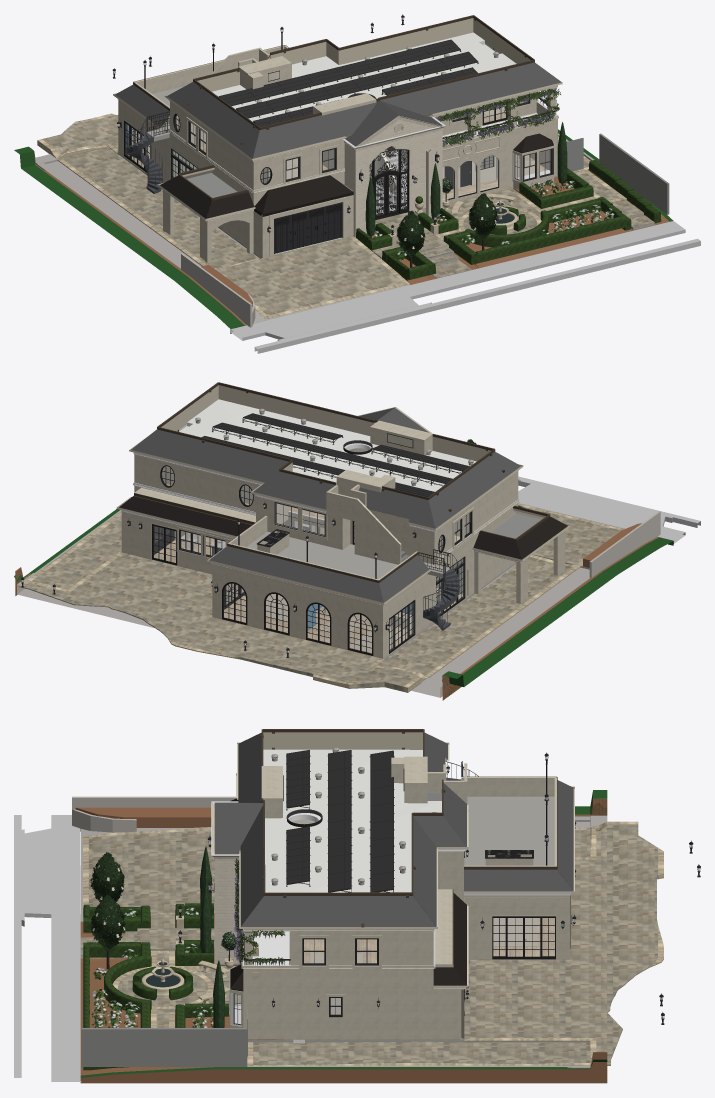
Rendered from exterior-house-9a754d239e27.glb.
3 views of the same model, one above another, from view 1: azimuth 30°, elevation 25°; view 2: azimuth 150°, elevation 25°; view 3: azimuth 270°, elevation 25° (orthographic). The views are drawn at different scales.
Parts seen in each view (by area): view 1: exterior-house-2097c6bf0b01330b, exterior-house-b5dfe7249a3eb059, exterior-house-e7e6fa835f441169, exterior-house-27d577fbd7f2ff4b, exterior-house-aee2d046b0172b1e, exterior-house-772a07b3069847f0, exterior-house-e33d7b378dc851e2, exterior-house-d56ee2a9d54b1fc2, exterior-house-8ae50a6395ceb8a4, exterior-house-0b9d5d1cd0b2c60f, exterior-house-7cf8e5cfa8b264af, exterior-house-25c3ff3929e46046 (+47 smaller); view 2: exterior-house-37d1b262fca80116, exterior-house-d56ee2a9d54b1fc2, exterior-house-27d577fbd7f2ff4b, exterior-house-8ae50a6395ceb8a4, exterior-house-969b861f9850351e, exterior-house-aee2d046b0172b1e, exterior-house-c91f911e25c8cae7, exterior-house-5febae1537653d02, exterior-house-b5dfe7249a3eb059, exterior-house-3763e2fb8578d282, exterior-house-2c1fd33d433632d0, exterior-house-0cae3eb2f2d52fad (+38 smaller); view 3: exterior-house-37d1b262fca80116, exterior-house-aee2d046b0172b1e, exterior-house-b5dfe7249a3eb059, exterior-house-d56ee2a9d54b1fc2, exterior-house-2097c6bf0b01330b, exterior-house-2c1fd33d433632d0, exterior-house-07f5bde4319b7ab4, exterior-house-e7e6fa835f441169, exterior-house-a75a0c9c223328ee, exterior-house-ded88bd99590d377, exterior-house-af97eba351c411ae, exterior-house-e706aa16b4547c37 (+54 smaller).
Part boxes in pixels (x1,y1,x2,y2): exterior-house-2097c6bf0b01330b: (216,236,409,318); exterior-house-b5dfe7249a3eb059: (230,221,685,340); exterior-house-e7e6fa835f441169: (356,182,625,280); exterior-house-27d577fbd7f2ff4b: (57,147,260,269); exterior-house-aee2d046b0172b1e: (14,129,673,333); exterior-house-772a07b3069847f0: (254,238,700,353); exterior-house-e33d7b378dc851e2: (380,62,560,115); exterior-house-d56ee2a9d54b1fc2: (212,32,516,121); exterior-house-8ae50a6395ceb8a4: (35,133,594,323); exterior-house-0b9d5d1cd0b2c60f: (236,51,478,118); exterior-house-7cf8e5cfa8b264af: (218,39,461,105); exterior-house-25c3ff3929e46046: (253,101,377,158); exterior-house-37d1b262fca80116: (18,552,427,692); exterior-house-d56ee2a9d54b1fc2: (181,399,476,491); exterior-house-27d577fbd7f2ff4b: (377,555,580,677); exterior-house-8ae50a6395ceb8a4: (17,503,624,697); exterior-house-969b861f9850351e: (212,566,380,657); exterior-house-aee2d046b0172b1e: (14,509,673,700); exterior-house-c91f911e25c8cae7: (131,429,288,482); exterior-house-5febae1537653d02: (209,546,383,602); exterior-house-b5dfe7249a3eb059: (518,484,685,543); exterior-house-3763e2fb8578d282: (134,454,259,512); exterior-house-2c1fd33d433632d0: (28,512,121,589); exterior-house-0cae3eb2f2d52fad: (428,451,520,528); exterior-house-37d1b262fca80116: (464,821,663,1065); exterior-house-aee2d046b0172b1e: (80,790,607,1083); exterior-house-b5dfe7249a3eb059: (24,815,81,1081); exterior-house-d56ee2a9d54b1fc2: (263,749,441,892); exterior-house-2097c6bf0b01330b: (83,828,214,921); exterior-house-2c1fd33d433632d0: (247,1041,590,1065); exterior-house-07f5bde4319b7ab4: (81,1028,247,1066); exterior-house-e7e6fa835f441169: (83,903,228,1027); exterior-house-a75a0c9c223328ee: (241,896,436,926); exterior-house-ded88bd99590d377: (464,796,554,865); exterior-house-af97eba351c411ae: (372,979,461,1038); exterior-house-e706aa16b4547c37: (464,897,567,959).
Bounding box in the file's own units: 31.9 × 8.68 × 35.2.
110 materials, 31 textured.
